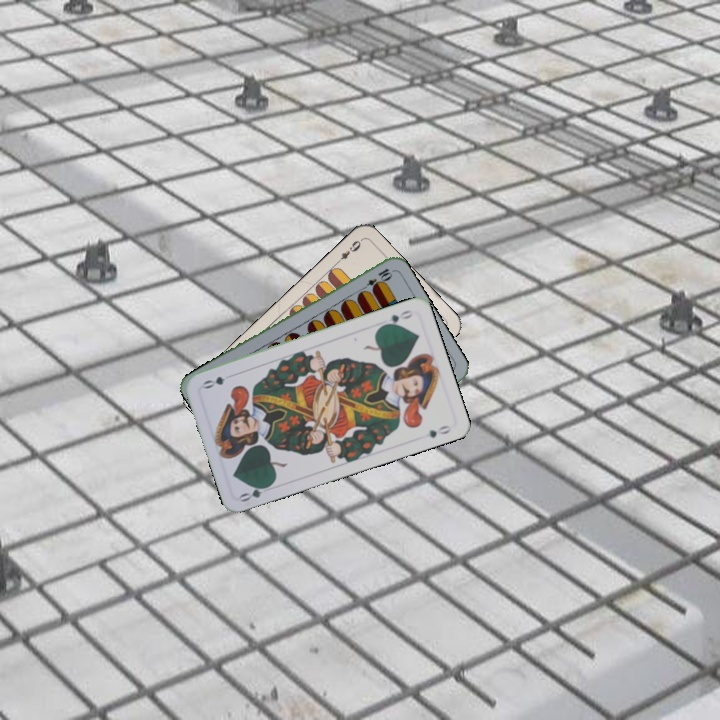E10: (357, 264, 394, 294)
E9: (331, 235, 364, 267)
GO: (236, 480, 274, 505), (377, 306, 415, 329)
